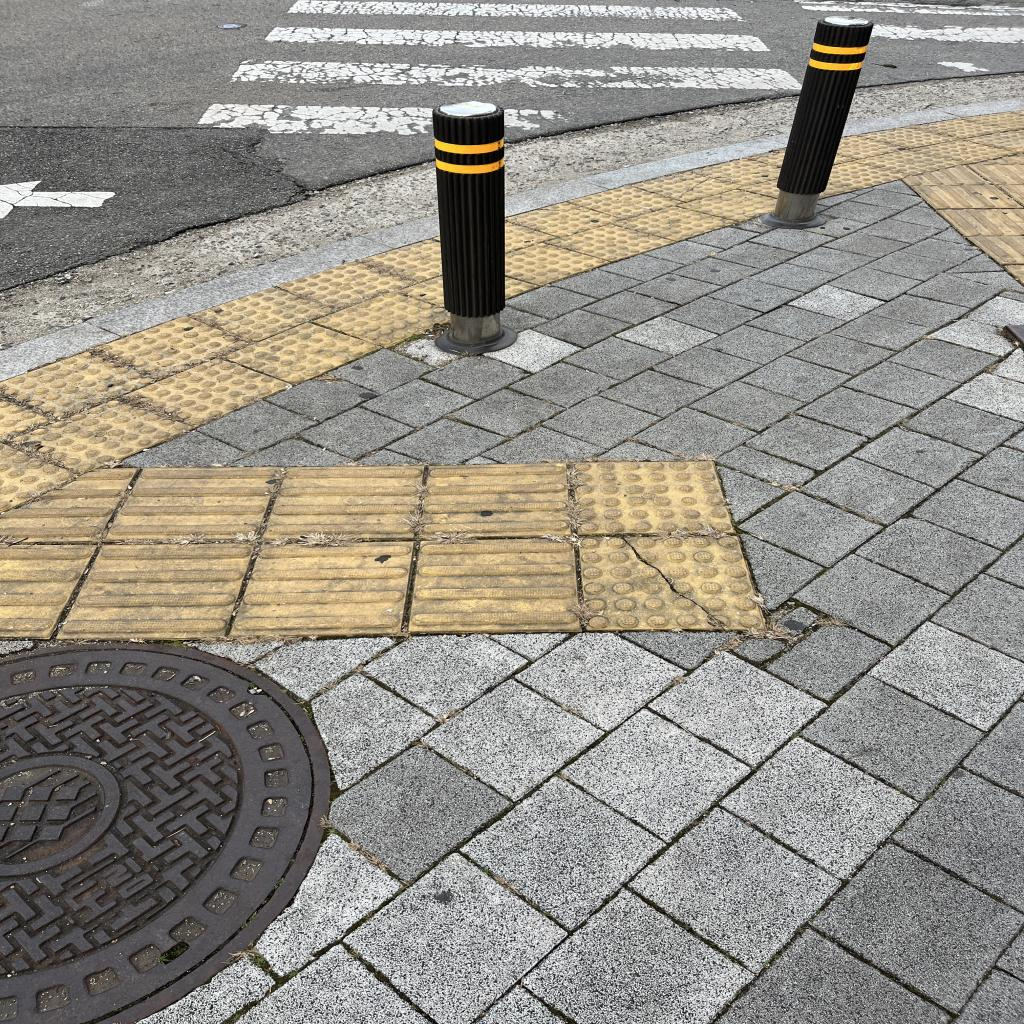Stop block broken: (580, 535, 766, 630)
Stop block normal: (571, 460, 734, 534)
Straight block normal: (226, 540, 417, 638), (408, 538, 581, 630), (418, 461, 571, 538), (262, 466, 424, 538)
